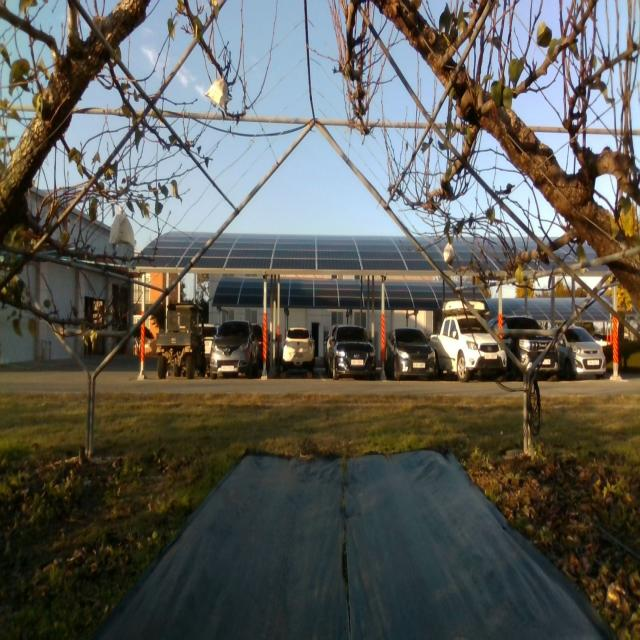pearbags: (110, 214, 135, 247), (205, 79, 228, 109), (443, 242, 454, 264)
